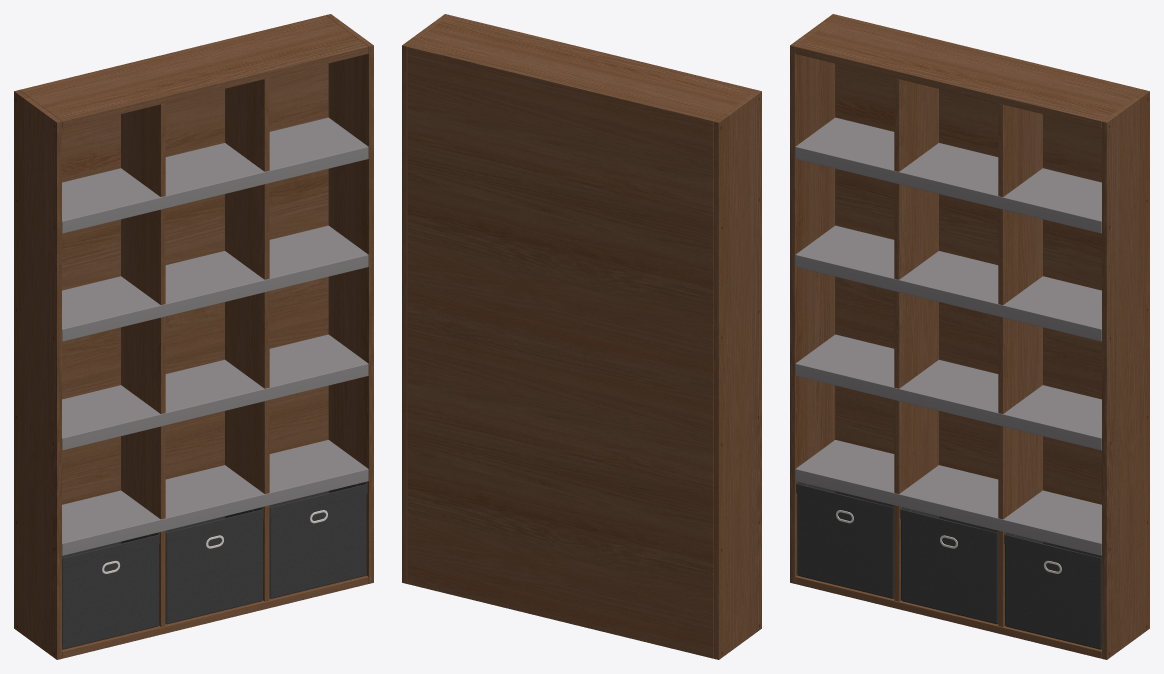
Rendered from MEGA_PACK_Shelf__shelf-422943_frame_walnut_dark_gray.glb.
The picture shows the model from 3 angles, left to right: view 1: azimuth 30°, elevation 25°; view 2: azimuth 150°, elevation 25°; view 3: azimuth 330°, elevation 25°; orthographic projection.
Parts seen in each view (by area): view 1: shelf-422943_frame_walnut_dark_gray; view 2: shelf-422943_frame_walnut_dark_gray; view 3: shelf-422943_frame_walnut_dark_gray.
Part boxes in pixels (bbox=[...]): shelf-422943_frame_walnut_dark_gray: bbox=[14, 14, 373, 659]; shelf-422943_frame_walnut_dark_gray: bbox=[402, 14, 761, 659]; shelf-422943_frame_walnut_dark_gray: bbox=[790, 14, 1149, 659].
Bounding box in the file's own units: 1.2 × 1.94 × 0.283.
1 material, 1 textured.
